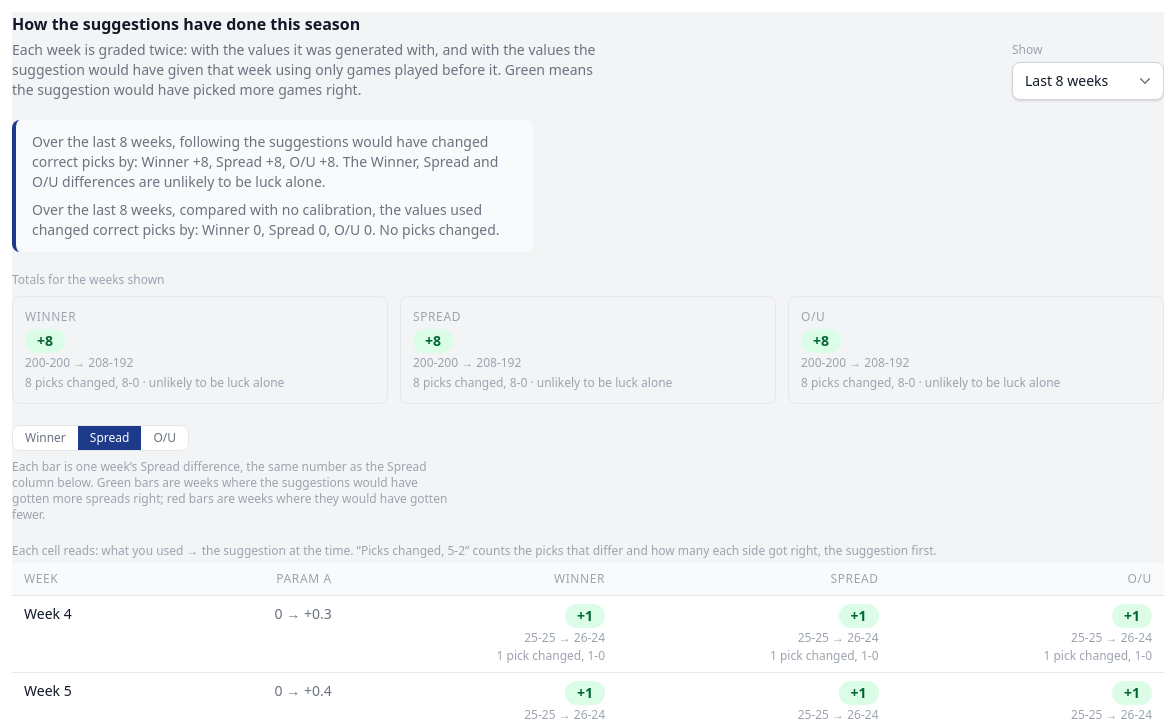
Scenario: PredictionCalibrationSeasonResults › shows the whole season when chosen
Select "Season to date" in the dropdown labelled "Show" at (1088, 81), box [1012,62,1164,100]
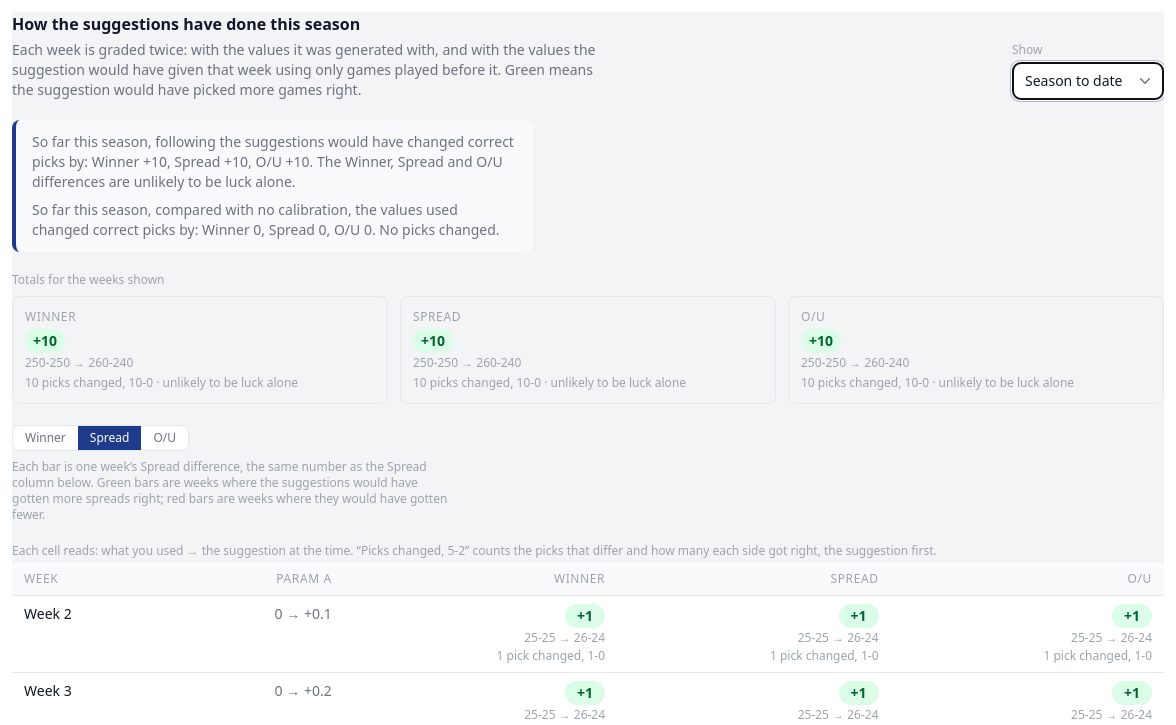
Expected: the text "+10" is shown 3 times, [25,329,65,353]; [413,329,453,353]; [801,329,841,353]
Expected: the text "So far this season, following the suggestions" is shown, [32,132,514,171]
